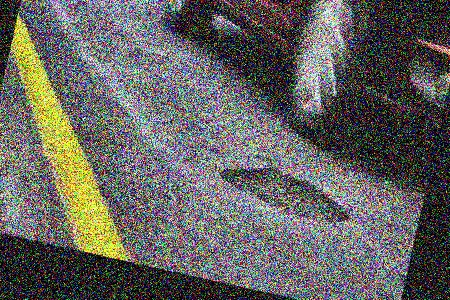pothole: (213, 155, 357, 227), (253, 151, 274, 164)
